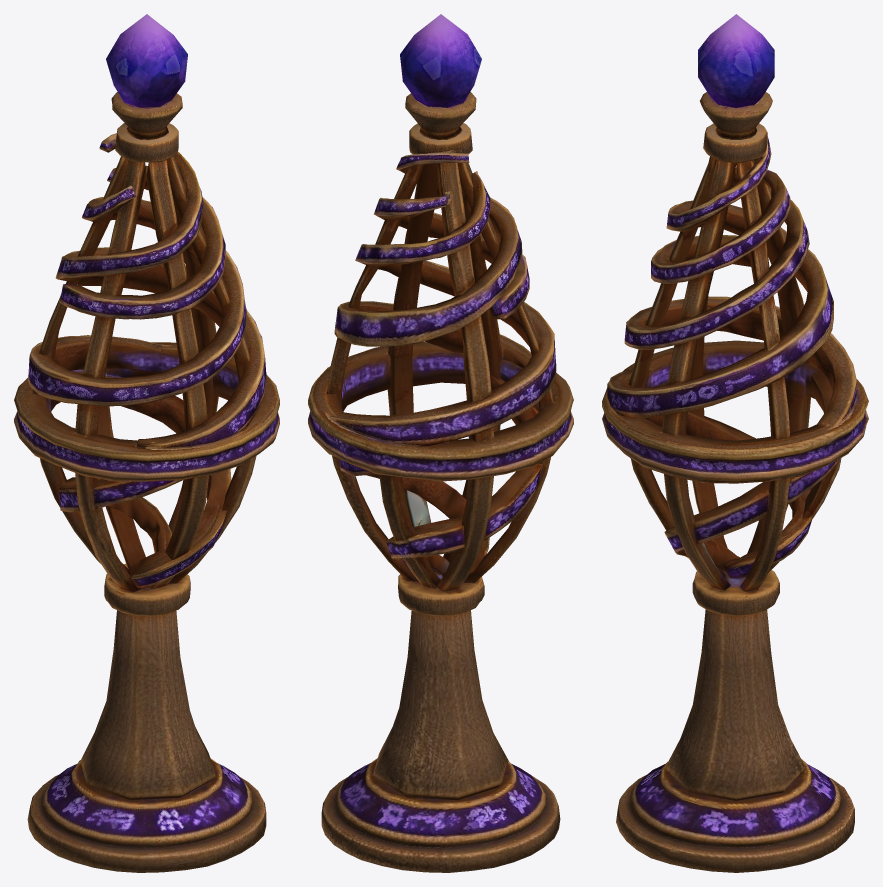
Rendered from tripo_convert_1e53acfb-a1f9-4635-b1c0-5667847df91d.fbx.
The picture shows the model from 3 angles, left to right: view 1: azimuth 30°, elevation 25°; view 2: azimuth 150°, elevation 25°; view 3: azimuth 270°, elevation 25°; orthographic projection.
Visible parts, largest first — view 1: tripo_node_1e53acfb; view 2: tripo_node_1e53acfb; view 3: tripo_node_1e53acfb.
Boxes of the visible parts, box(x1,y1,x2,y2) form: tripo_node_1e53acfb: box(14, 14, 279, 872); tripo_node_1e53acfb: box(308, 14, 573, 872); tripo_node_1e53acfb: box(602, 14, 868, 872).
Bounding box in the file's own units: 0.2988 × 0.998 × 0.2988.
1 material, 1 textured.
